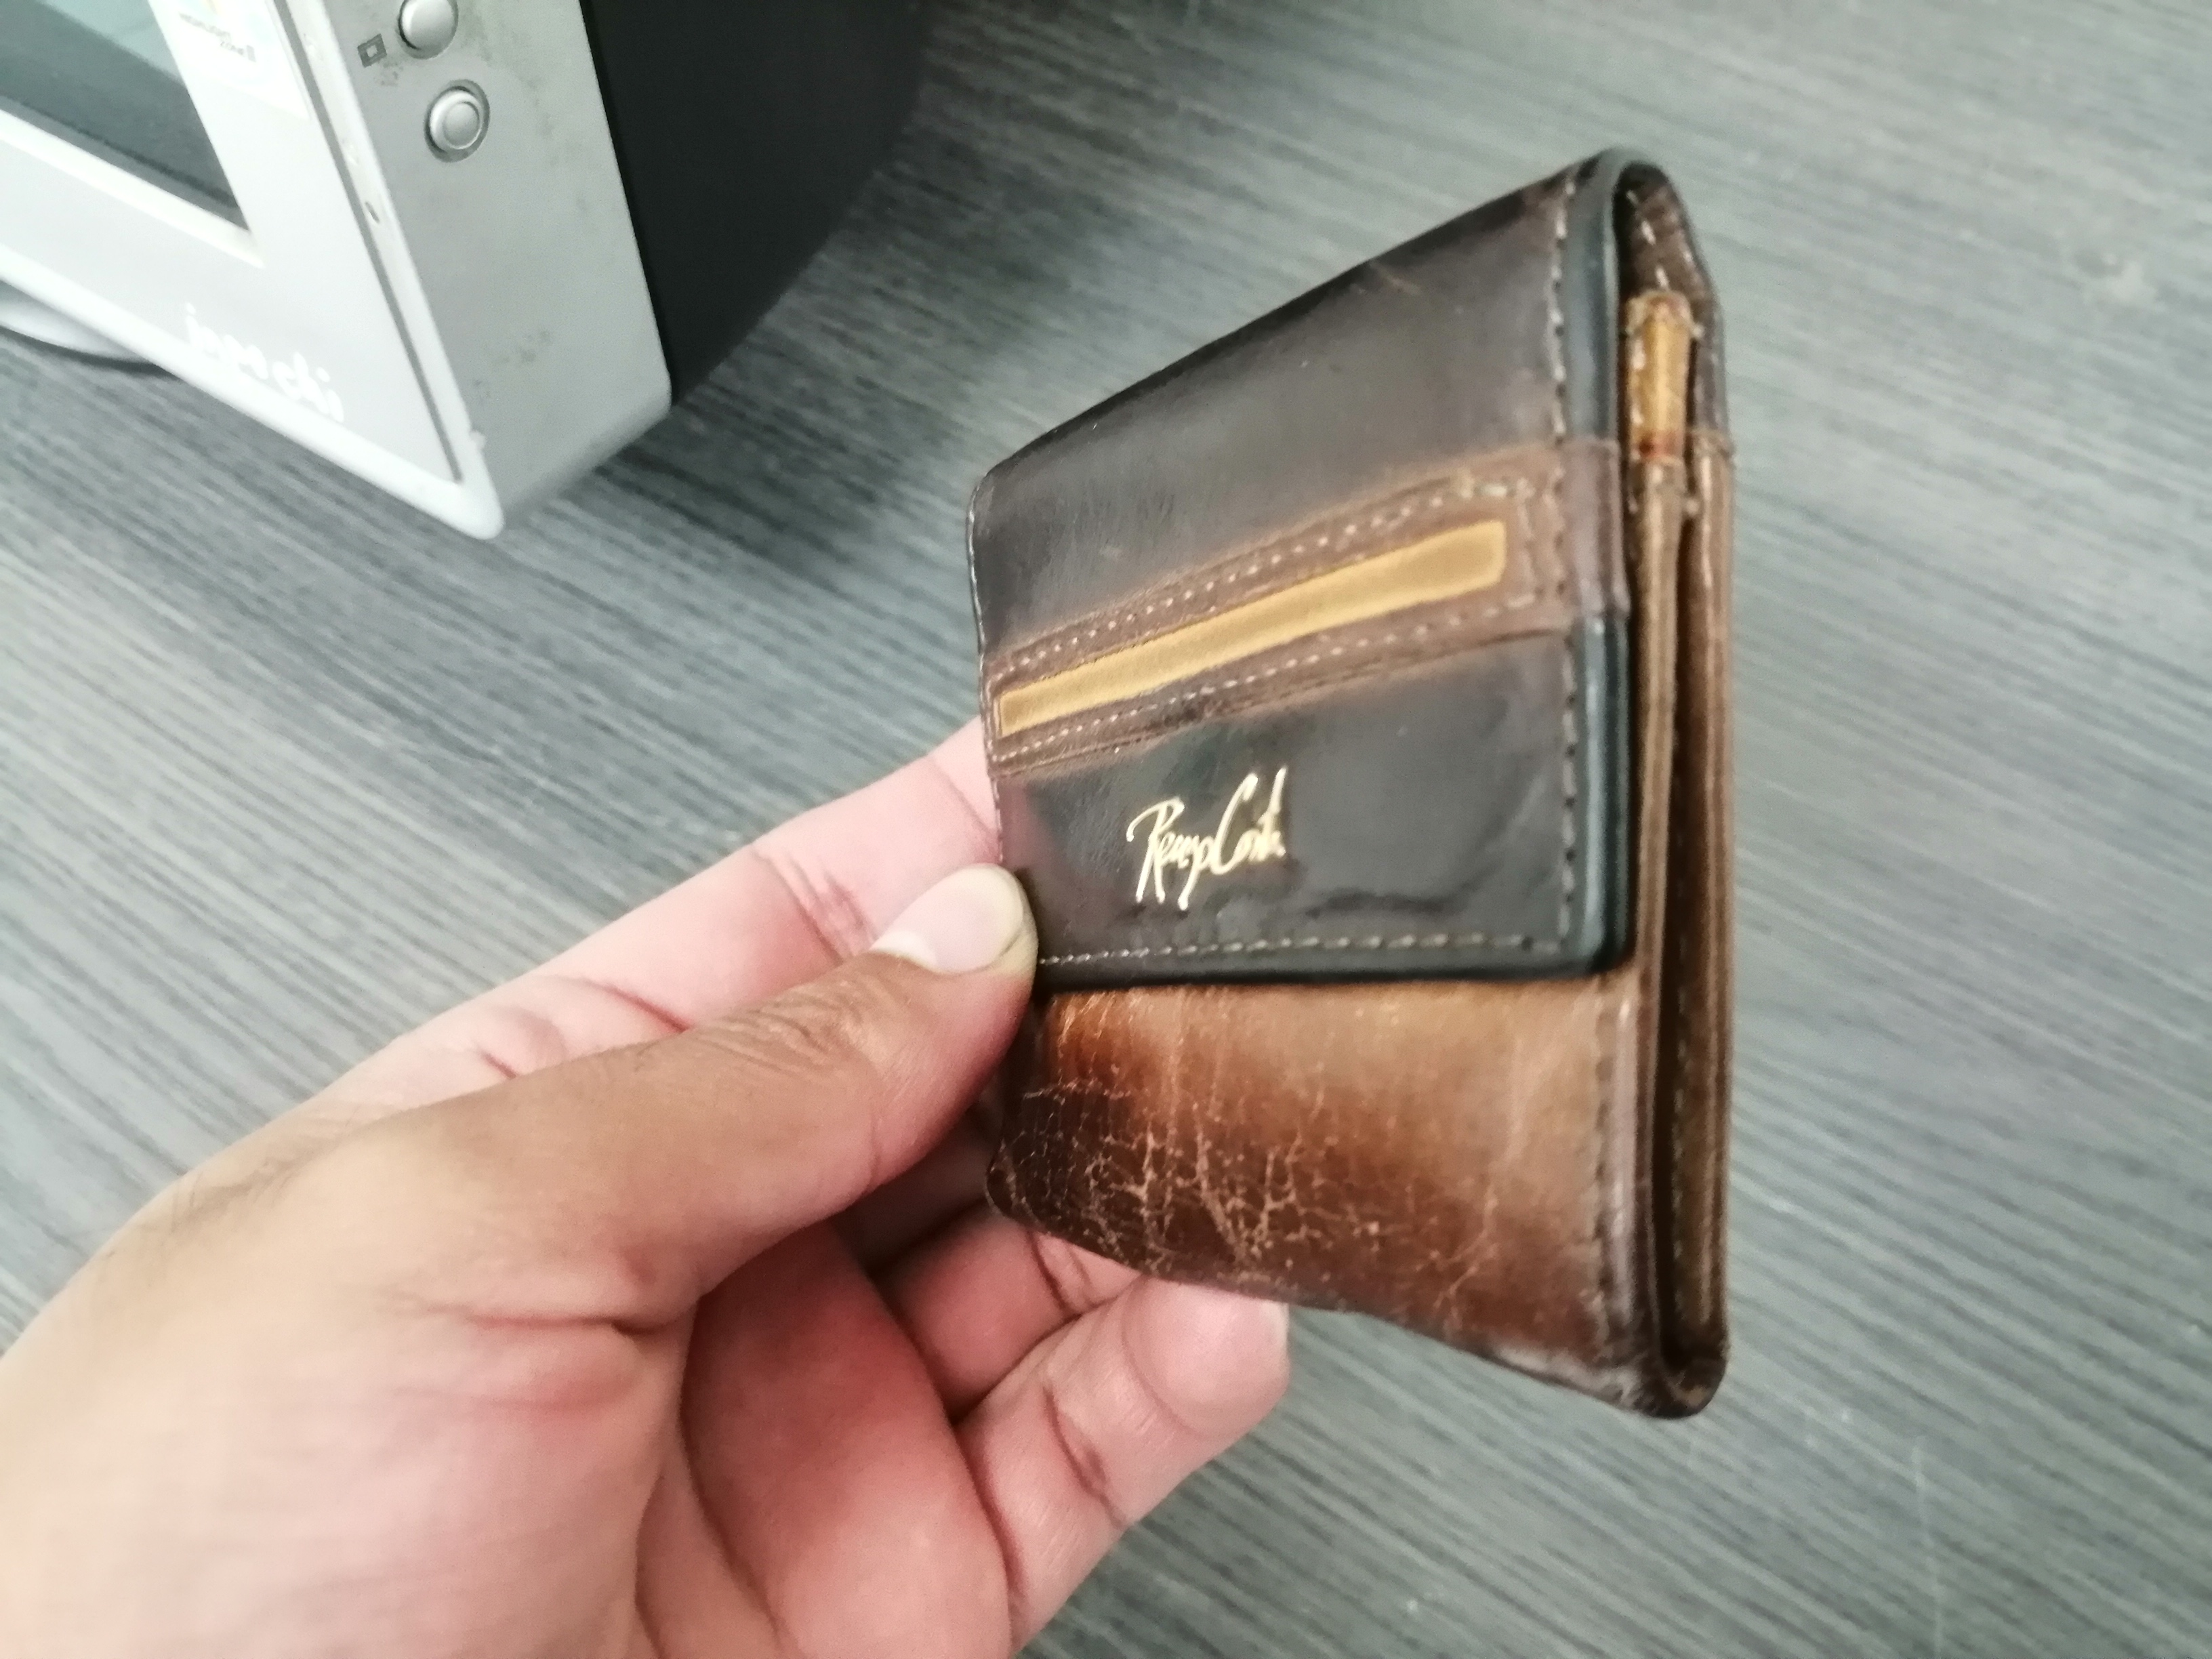monedero: (953, 125, 1763, 1441)
